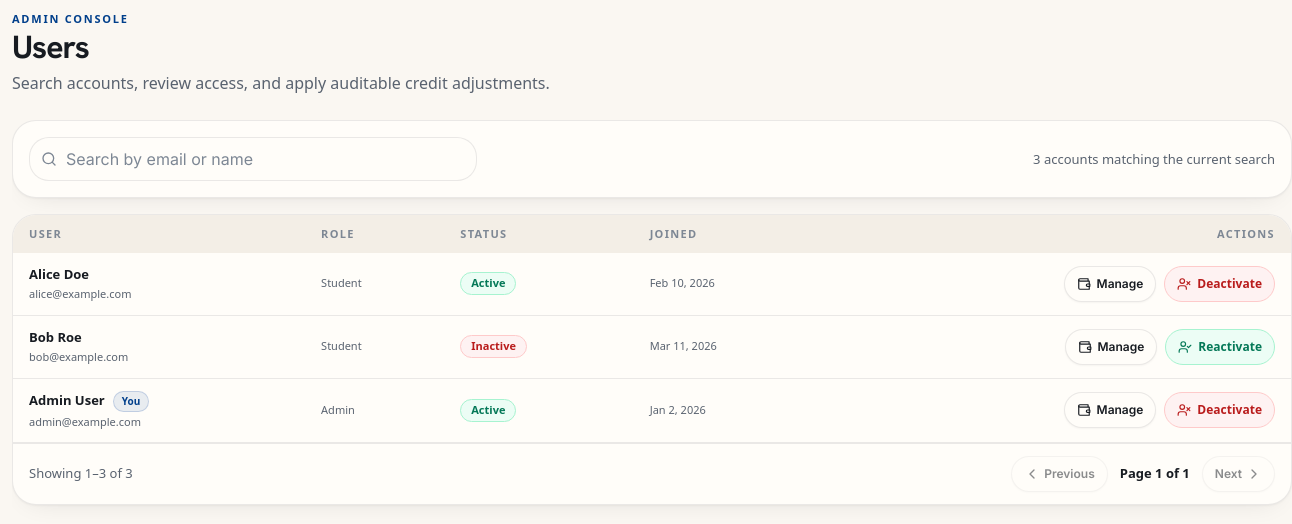
Scenario: AdminUsersPage › debounces email/name search, resets to the first page, and sends the search param
Expected: the text "Alice Doe" is shown, [29,265,89,284]
In the search field named "search users by email or name": (253, 159) [29,137,477,181], type "alice"
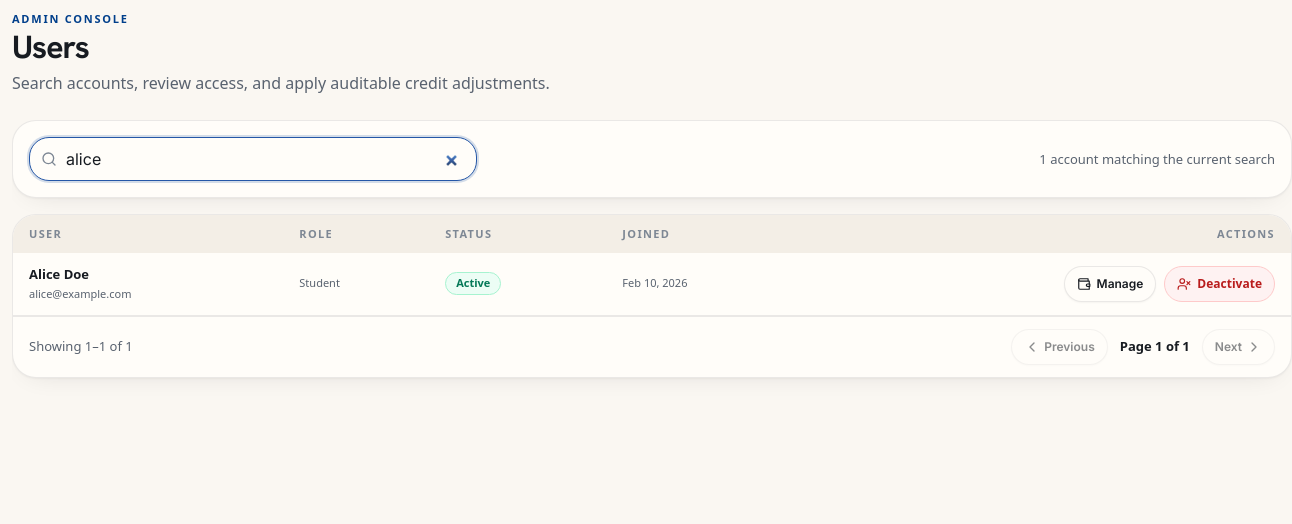
Expected: the text "Bob Roe" is gone
